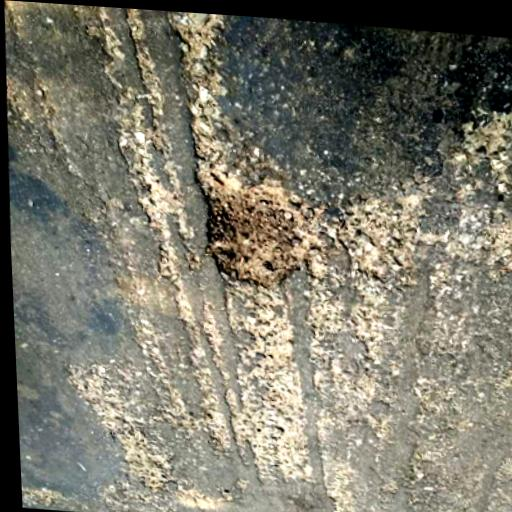pothole: (190, 163, 310, 294)
